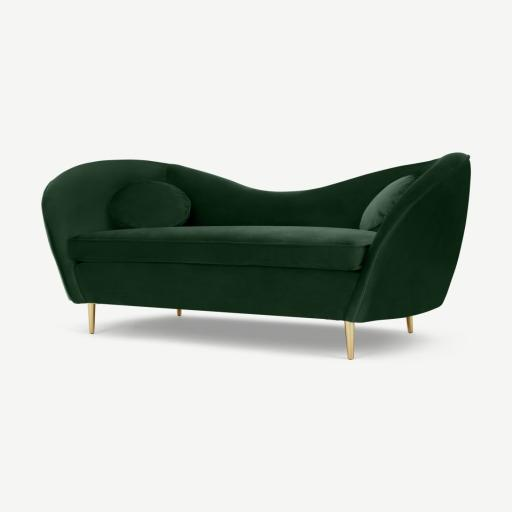back_cushion: (167, 165, 419, 228)
base: (74, 262, 359, 320)
left_arm: (346, 156, 470, 322)
legs: (345, 321, 354, 359), (88, 303, 96, 334), (407, 317, 413, 333), (177, 309, 181, 316)
one-seater: (42, 153, 470, 359)
right_arm: (42, 160, 167, 303)
seat_cushion: (68, 226, 375, 271)
